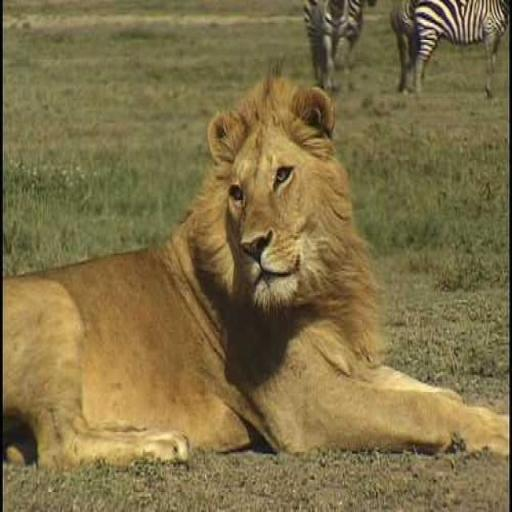Lion: (3, 70, 508, 472)
